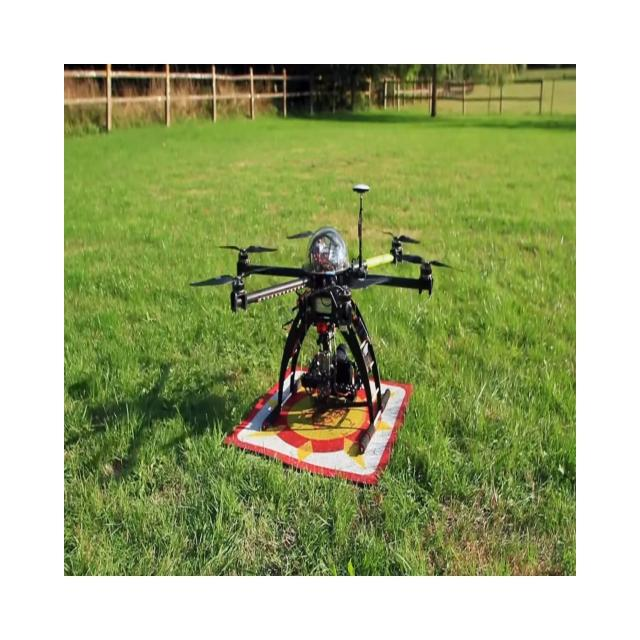drone: (188, 182, 464, 458)
